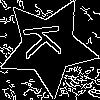K: (23, 21, 71, 60)
